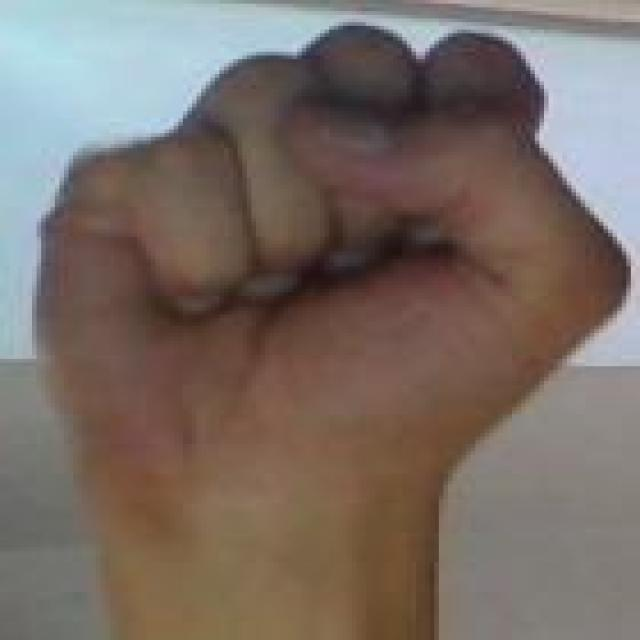S: (2, 0, 640, 440)
